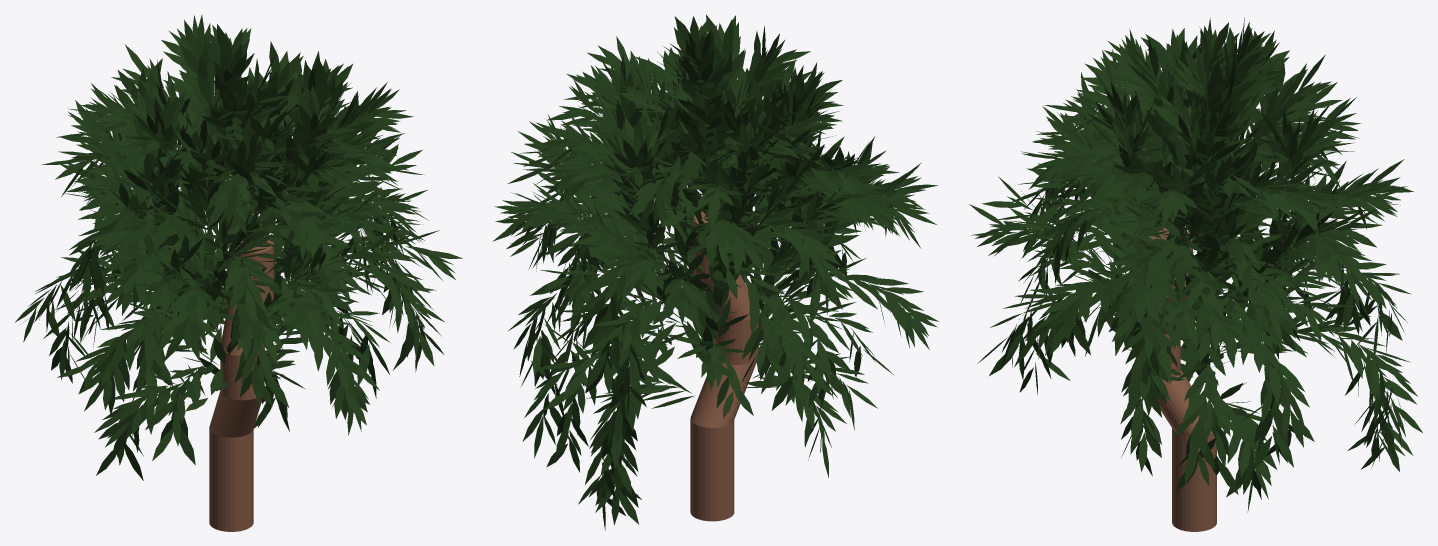
File: tree.fbx
3 renders of one model, left to right at view 1: azimuth 30°, elevation 25°; view 2: azimuth 150°, elevation 25°; view 3: azimuth 270°, elevation 25°, orthographic. The views are drawn at different scales.
Visible parts, largest first — view 1: leaves.001, 円柱; view 2: leaves.001, 円柱; view 3: leaves.001, 円柱.
Boxes of the visible parts, x1,y1,x2,y2 form: leaves.001: (15,15,462,480); 円柱: (209,236,273,531); leaves.001: (493,14,939,530); 円柱: (690,210,758,521); leaves.001: (969,17,1422,512); 円柱: (1135,228,1216,531).
Size of the model in its own units: 387 by 461 by 379.
